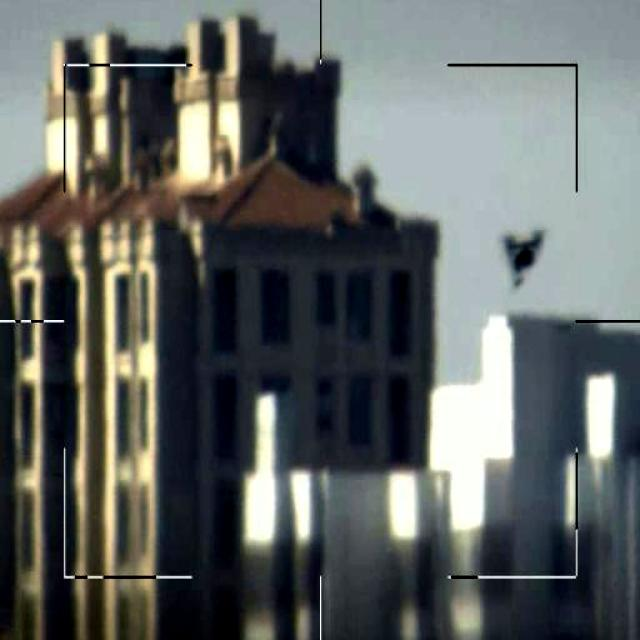bird: (501, 228, 545, 286)
